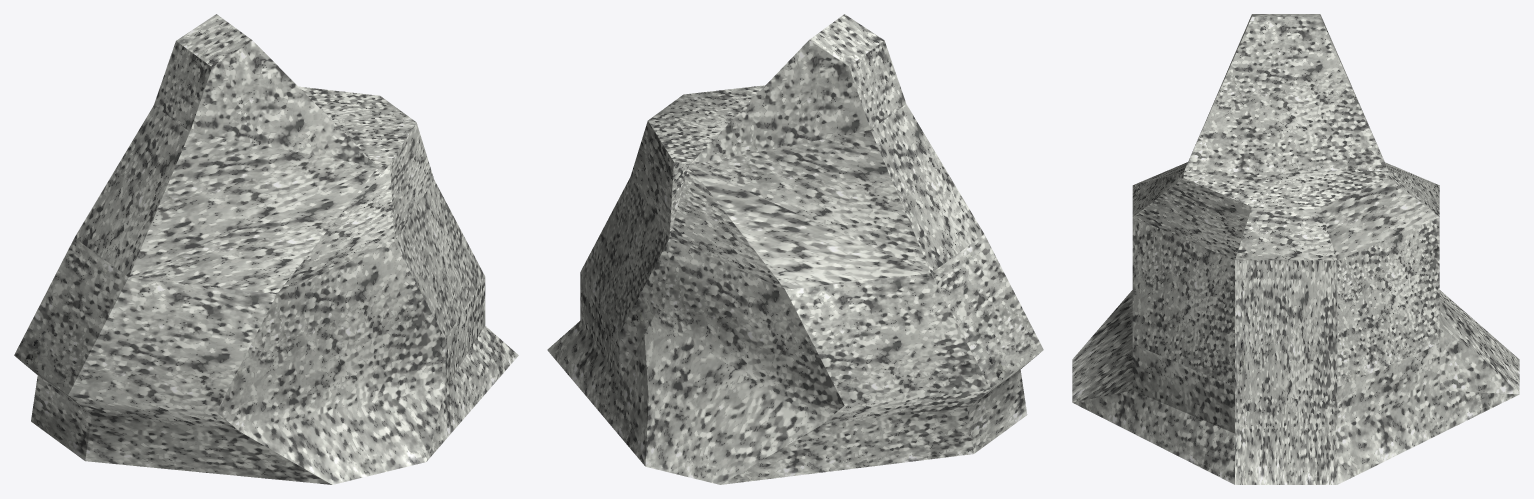
File: Rock04.fbx
The picture shows the model from 3 angles, left to right: view 1: azimuth 30°, elevation 25°; view 2: azimuth 150°, elevation 25°; view 3: azimuth 270°, elevation 25°; orthographic projection. The views are drawn at different scales.
Visible parts, largest first — view 1: pCube1; view 2: pCube1; view 3: pCube1.
Part boxes in pixels (x1=…): pCube1: x1=14, y1=14, x2=518, y2=484; pCube1: x1=547, y1=14, x2=1043, y2=484; pCube1: x1=1072, y1=14, x2=1519, y2=484.
Size of the model in its own units: 9.59 by 7.55 by 8.74.
1 material, 1 textured.
